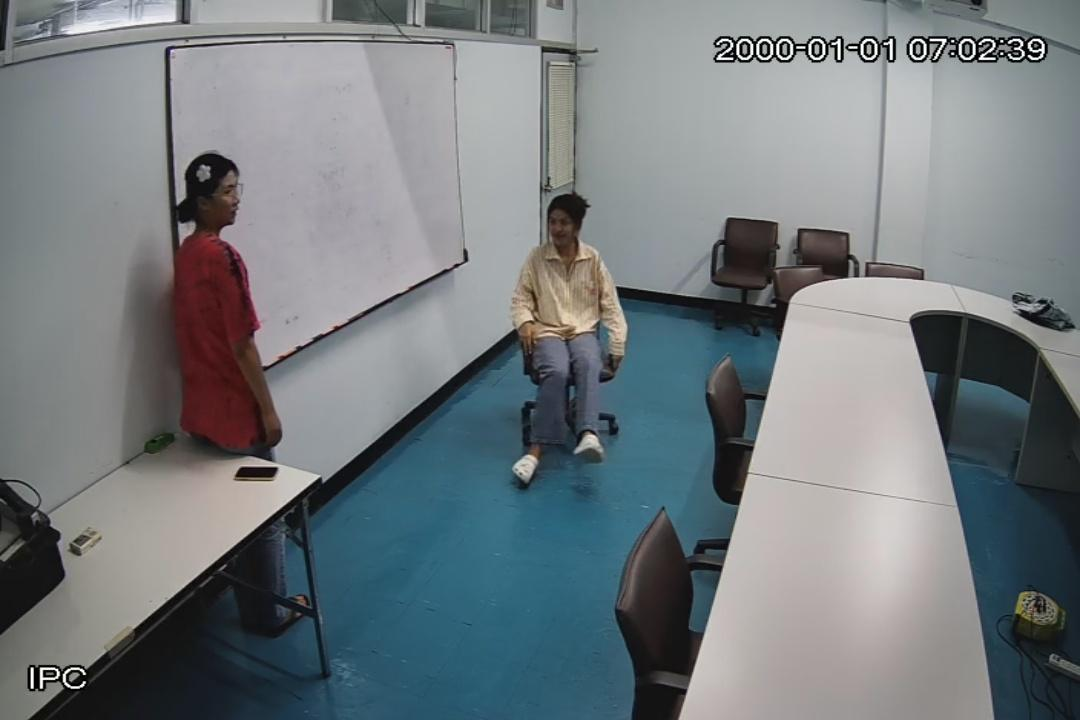normal: (162, 154, 322, 644), (504, 188, 636, 492)
